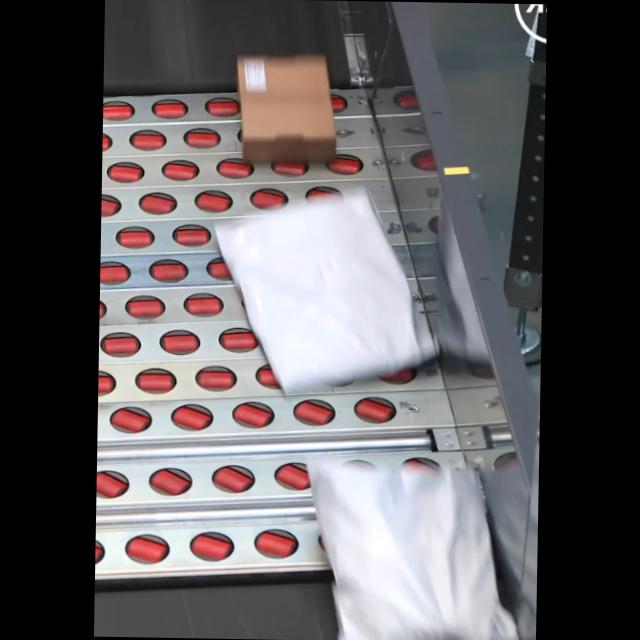box: (234, 54, 337, 162)
mailer: (216, 185, 435, 388), (313, 457, 521, 640)
